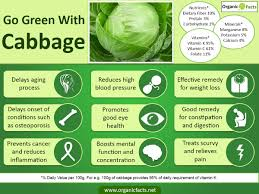cabbage: (93, 6, 170, 59)
